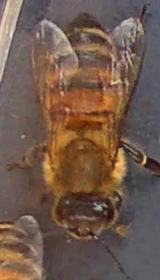varroa_mite: (42, 96, 82, 132)
